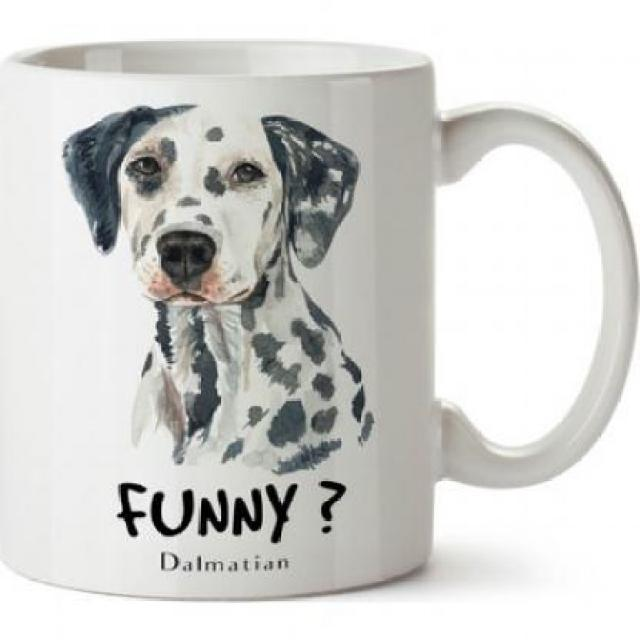taza: (0, 38, 640, 600)
